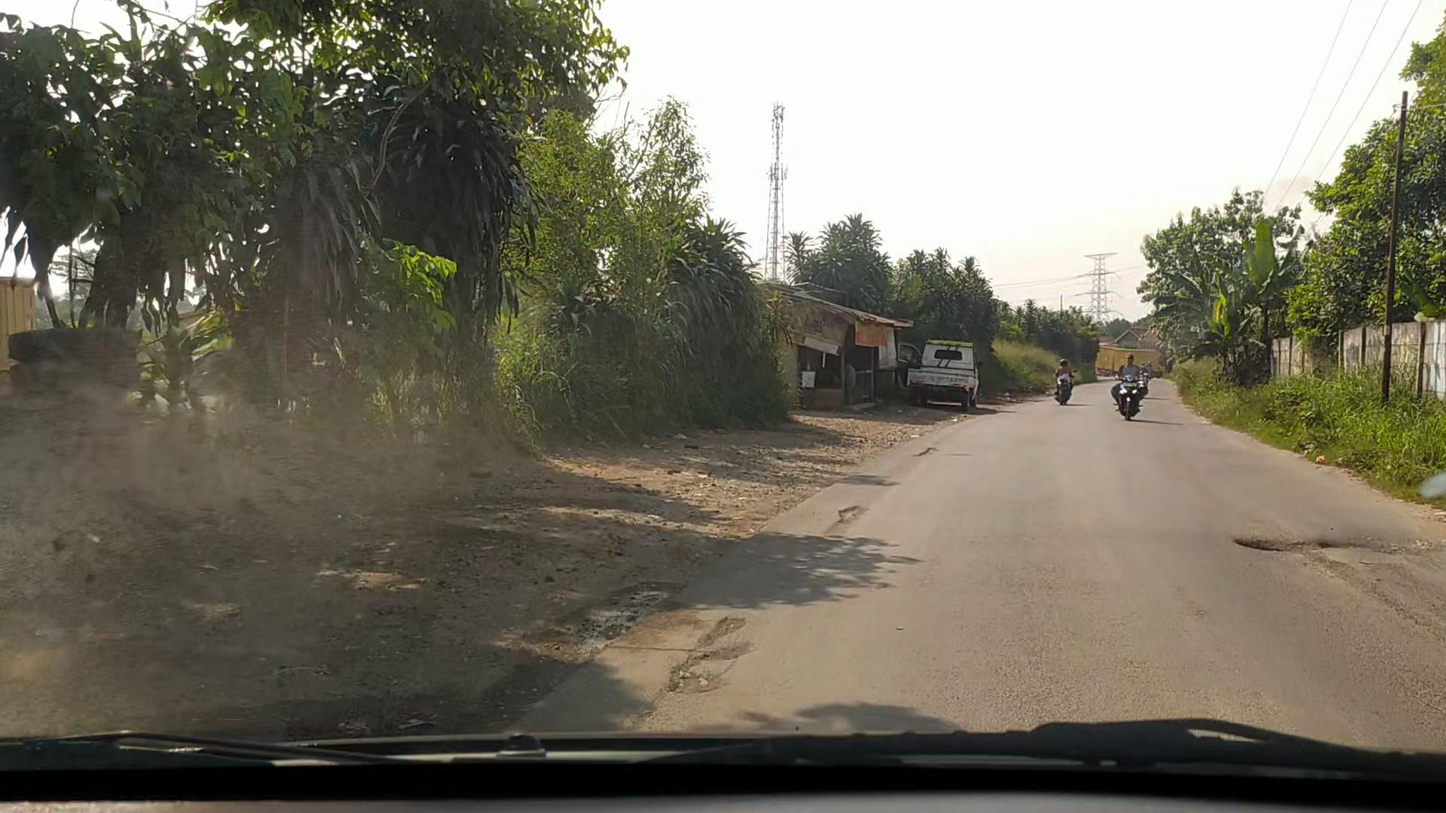pothole: (665, 616, 750, 694), (1230, 534, 1390, 554), (826, 505, 868, 534), (916, 445, 937, 457)
